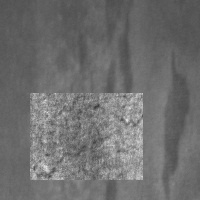crazing: (30, 93, 143, 180)
inclusion: (98, 1, 135, 164), (159, 47, 191, 199), (71, 29, 92, 86), (102, 155, 121, 199)
